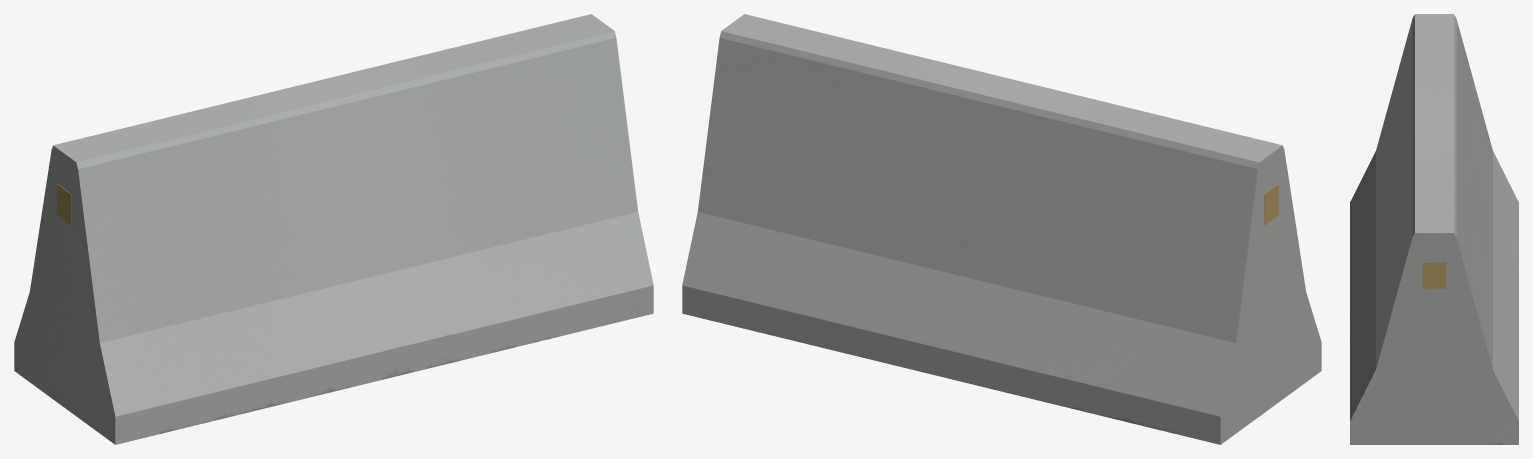
Rendered from jersey_barrier_2m.glb.
3 views of the same model, side by side, from view 1: azimuth 30°, elevation 25°; view 2: azimuth 150°, elevation 25°; view 3: azimuth 270°, elevation 25° (orthographic). The views are drawn at different scales.
Parts seen in each view (by area): view 1: JerseyBarrier; view 2: JerseyBarrier; view 3: JerseyBarrier.
Part boxes in pixels (x1,y1,x2,y2): JerseyBarrier: (14,14,653,444); JerseyBarrier: (682,14,1321,444); JerseyBarrier: (1350,14,1518,444).
Size of what is drawn, in the model's own units: 2 by 0.9 by 0.65.
1 material, 1 textured.
